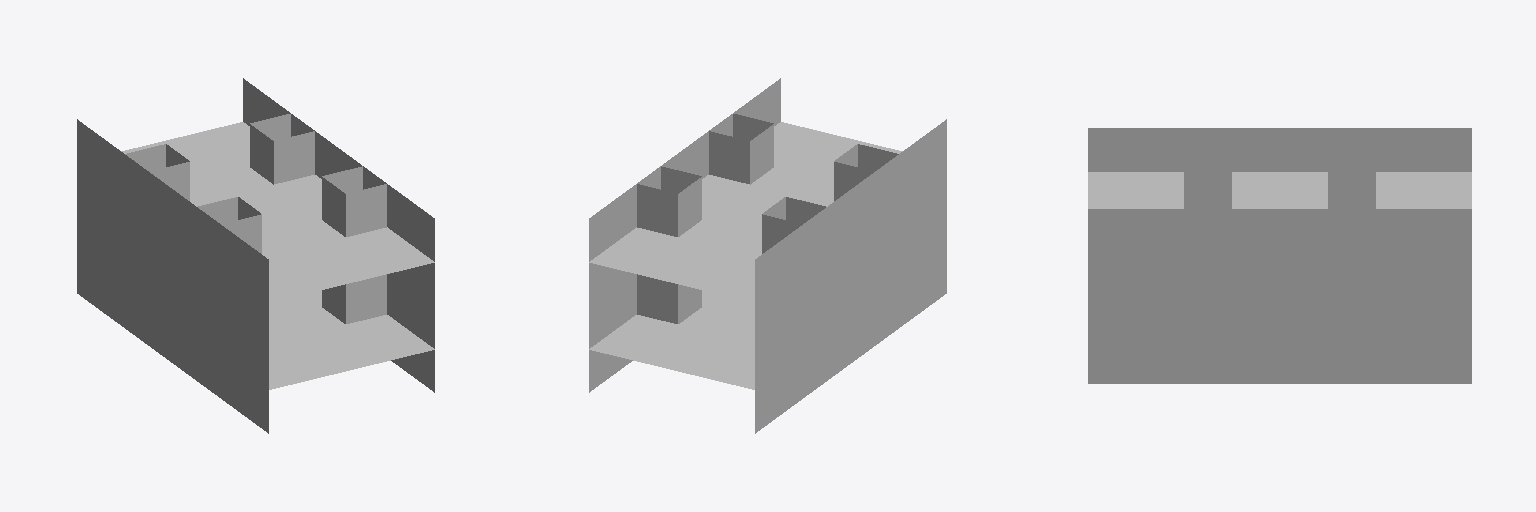
Rendered from test_corridor.obj.
3 views of the same model, side by side, from view 1: azimuth 30°, elevation 25°; view 2: azimuth 150°, elevation 25°; view 3: azimuth 270°, elevation 25° (orthographic).
Visible parts, largest first — view 1: world; view 2: world; view 3: world.
Boxes of the visible parts, <box> form: world: <box>77,78,434,433</box>; world: <box>589,78,946,433</box>; world: <box>1088,128,1471,383</box>.
Size of the model in its own units: 128 by 128 by 256.